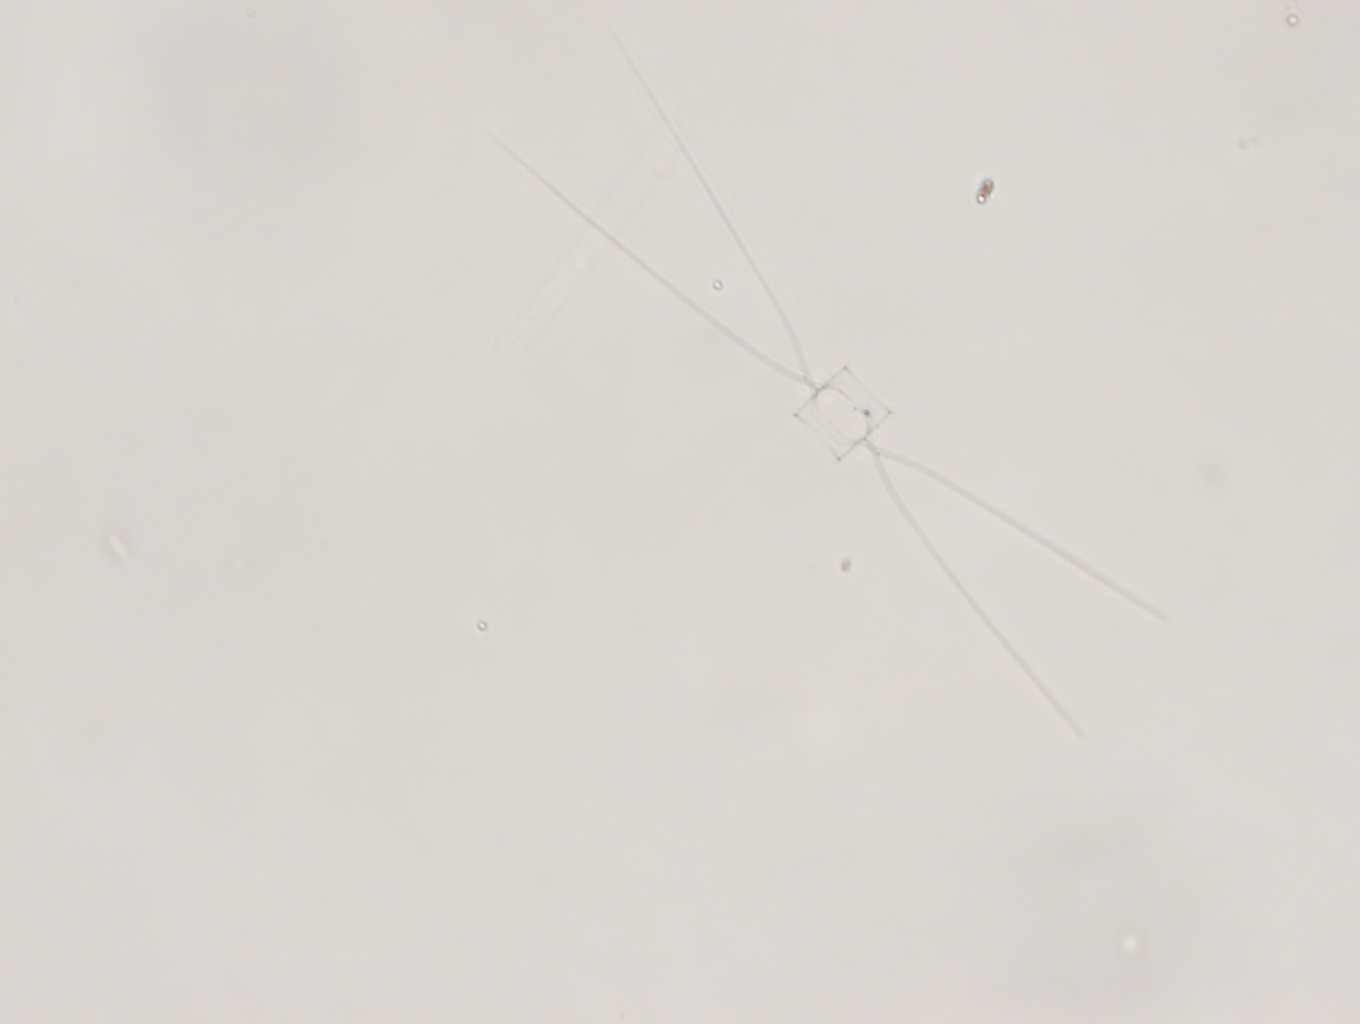chaetoceros: (490, 33, 1182, 744)
